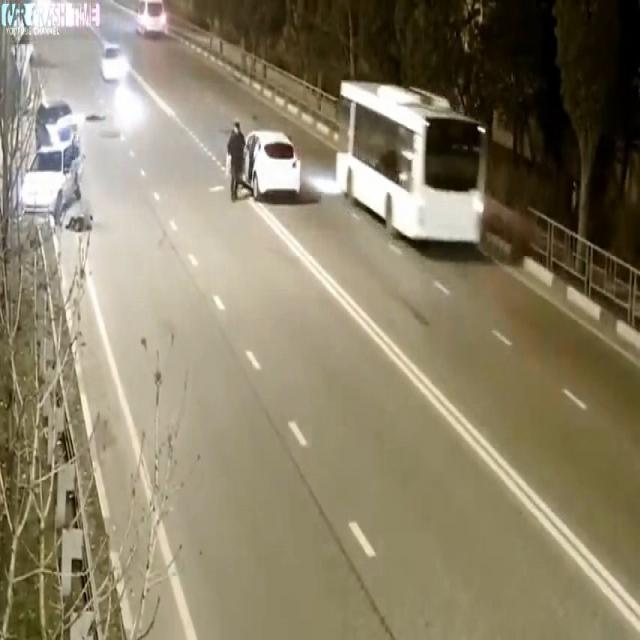Accident: (13, 61, 101, 238)
